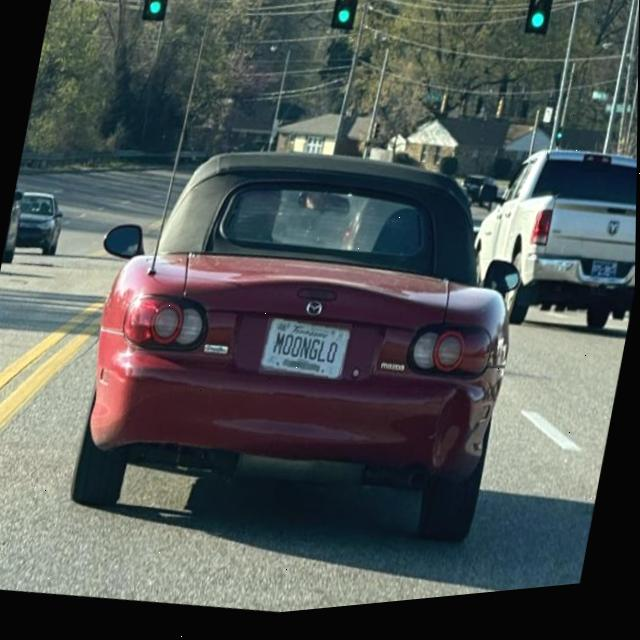LicensePlate: (260, 323, 351, 386)
